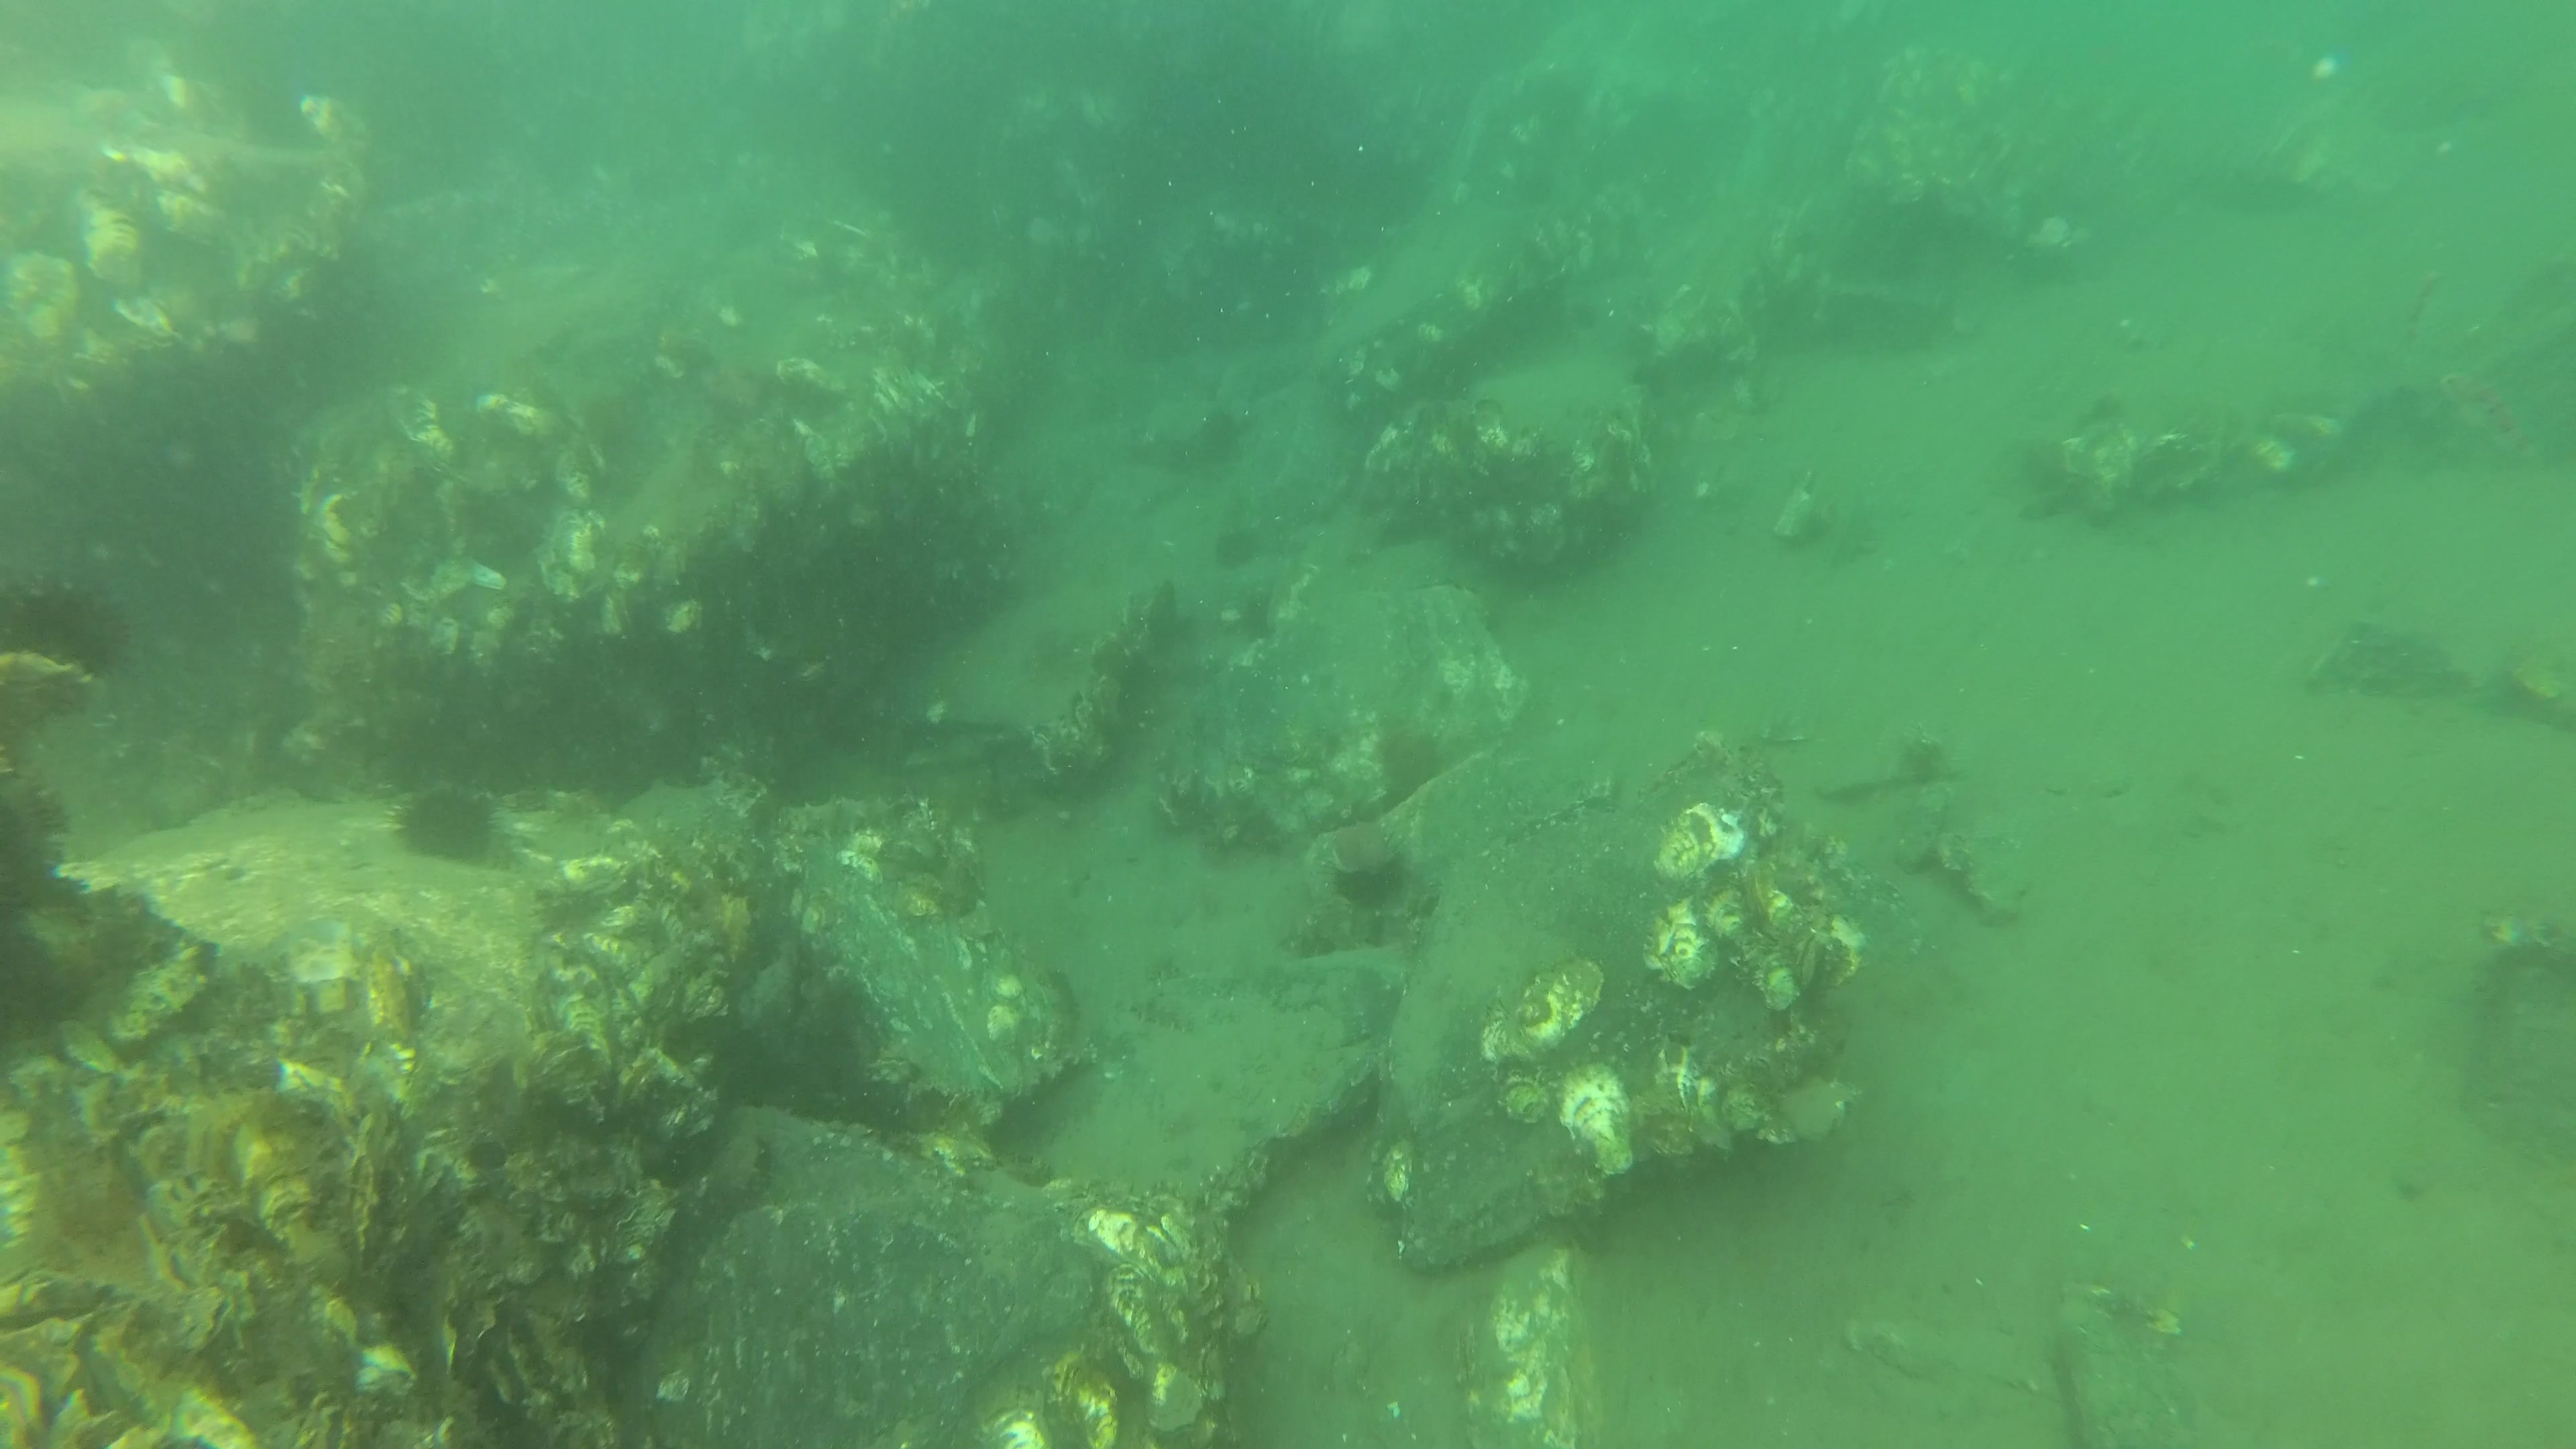echinus: (2, 577, 140, 685), (395, 787, 504, 863), (1214, 529, 1265, 564)
